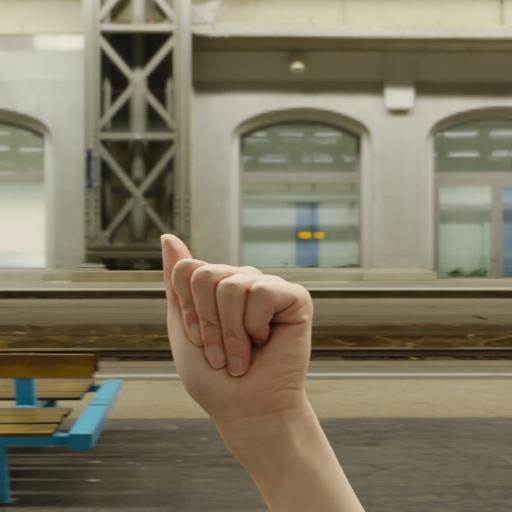A: (128, 216, 343, 420)
